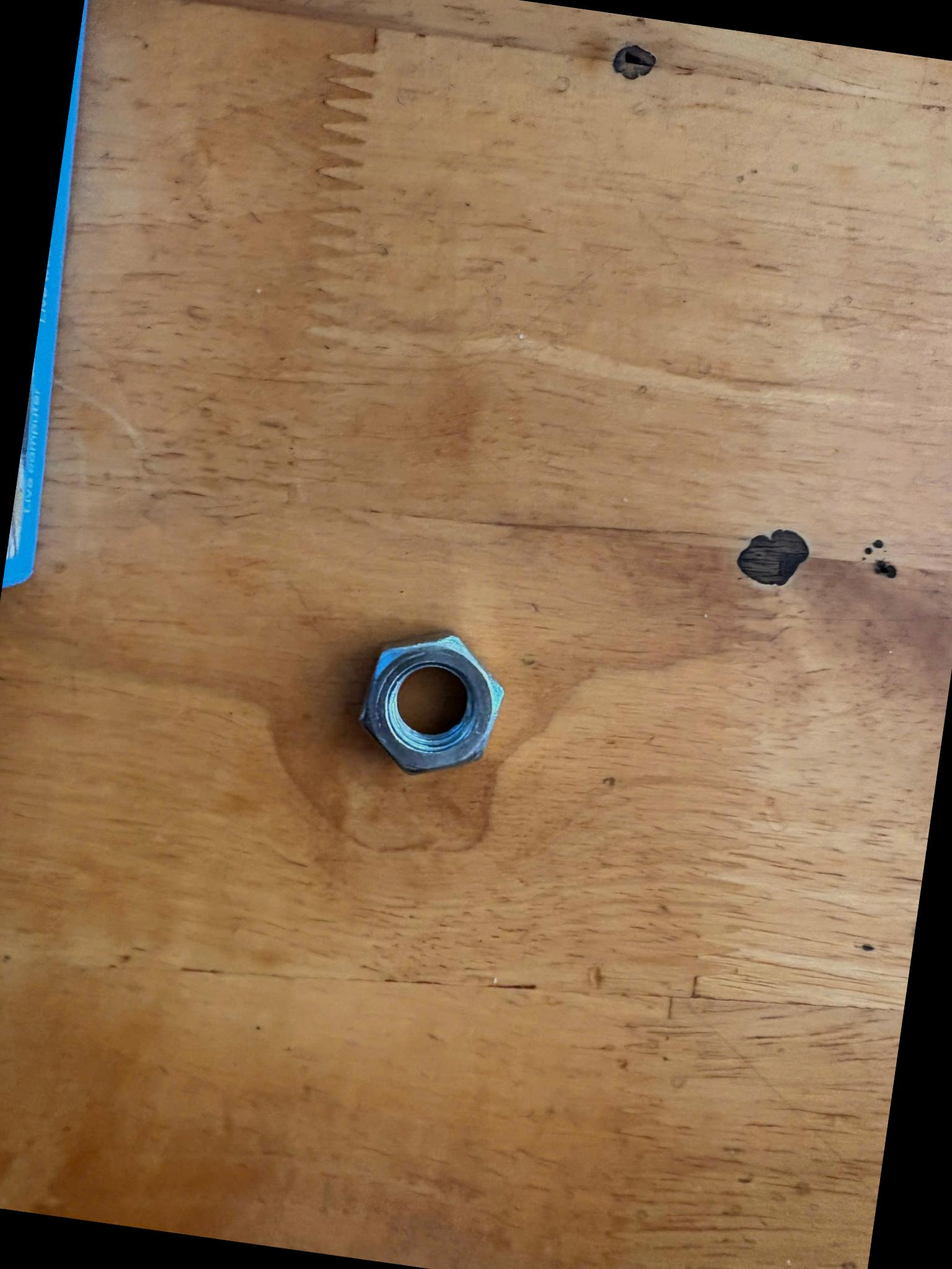nut: (341, 602, 533, 801)
